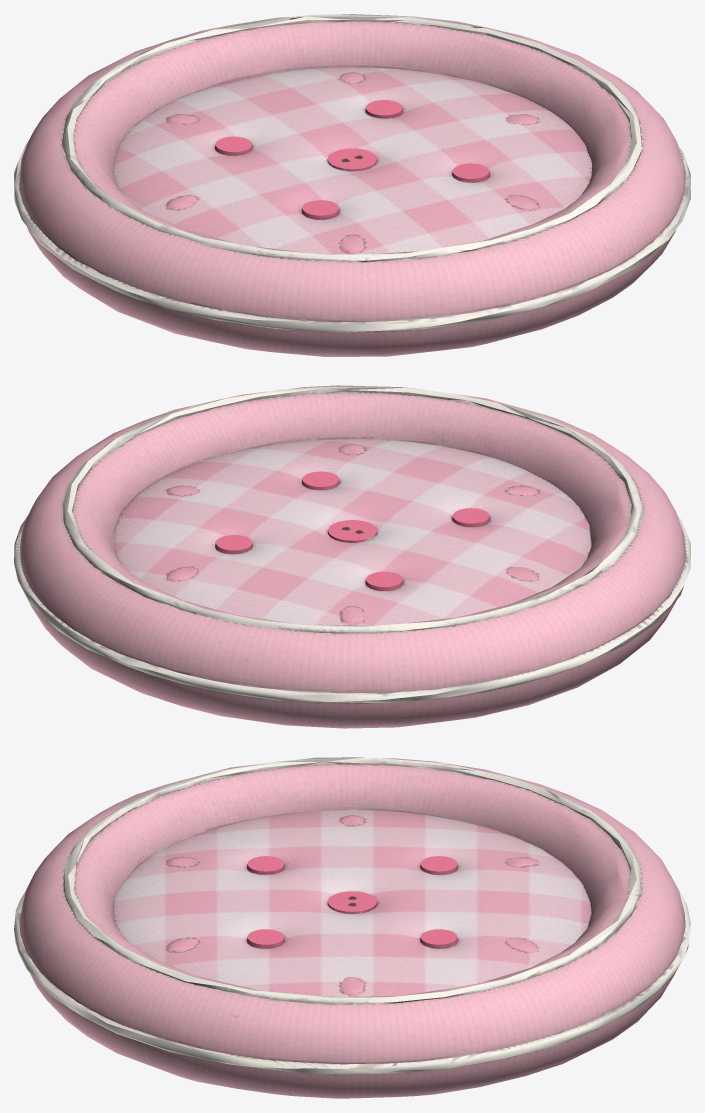
Rendered from petal_cushion.glb.
3 renders of one model, top to bottom at view 1: azimuth 30°, elevation 25°; view 2: azimuth 150°, elevation 25°; view 3: azimuth 270°, elevation 25°, orthographic.
Parts seen in each view (by area): view 1: petal_cushion; view 2: petal_cushion; view 3: petal_cushion.
Boxes of the visible parts, <box> form: petal_cushion: <box>14,14,690,356</box>; petal_cushion: <box>14,385,690,728</box>; petal_cushion: <box>14,757,690,1098</box>.
Size of the model in its own units: 1.11 by 0.1714 by 1.11.
Materials: 1 (1 with a texture image).
